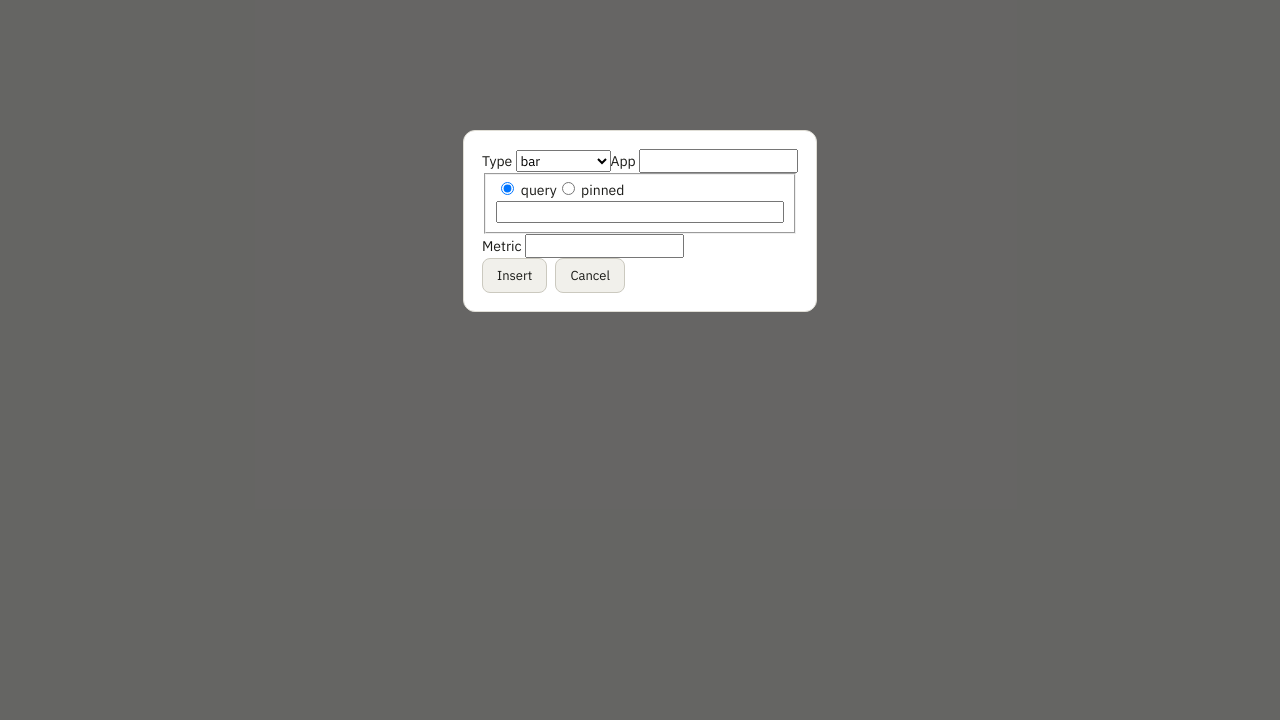
Test case: PanelDialog › shows validation errors and does not submit
The image size is (1280, 720).
Select "bar" in the dropdown labelled "Type": point(563, 161) [516, 150, 610, 172]
In the field labelled "App": point(718, 161) [639, 149, 798, 173], type "a"
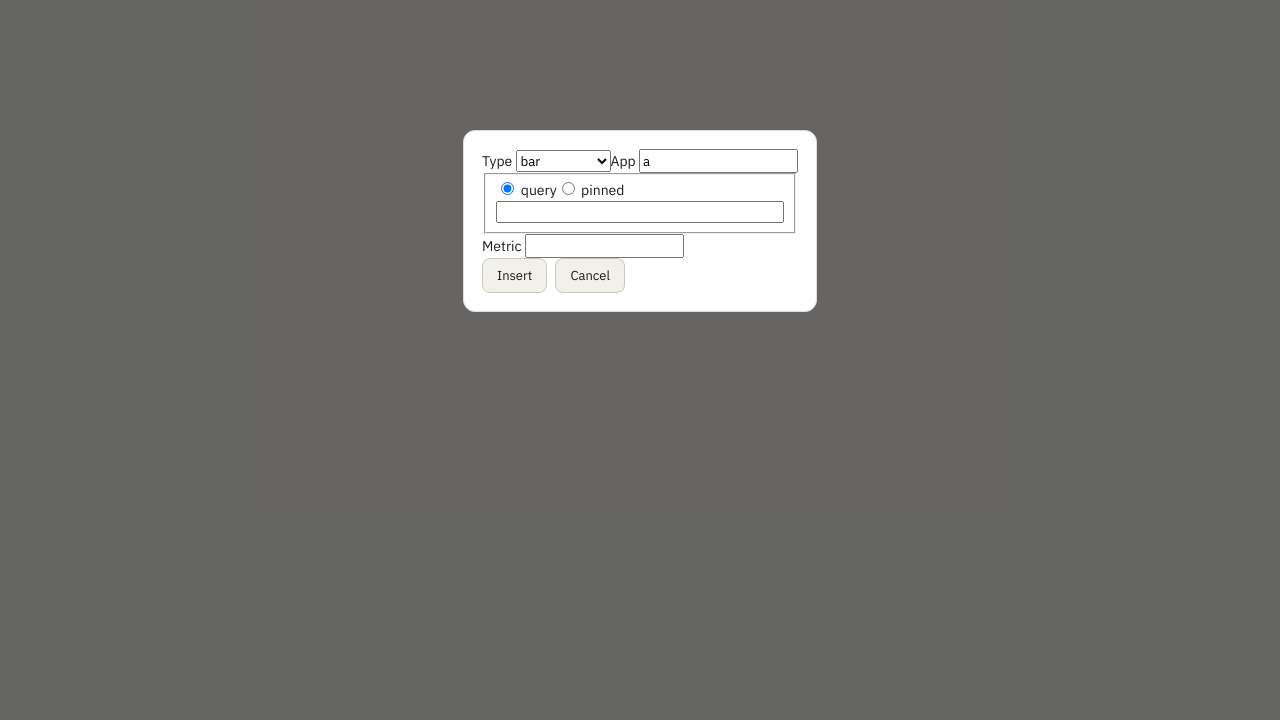
In the field named "Filter query": point(640, 212) [496, 202, 784, 224], type "(x = 1"
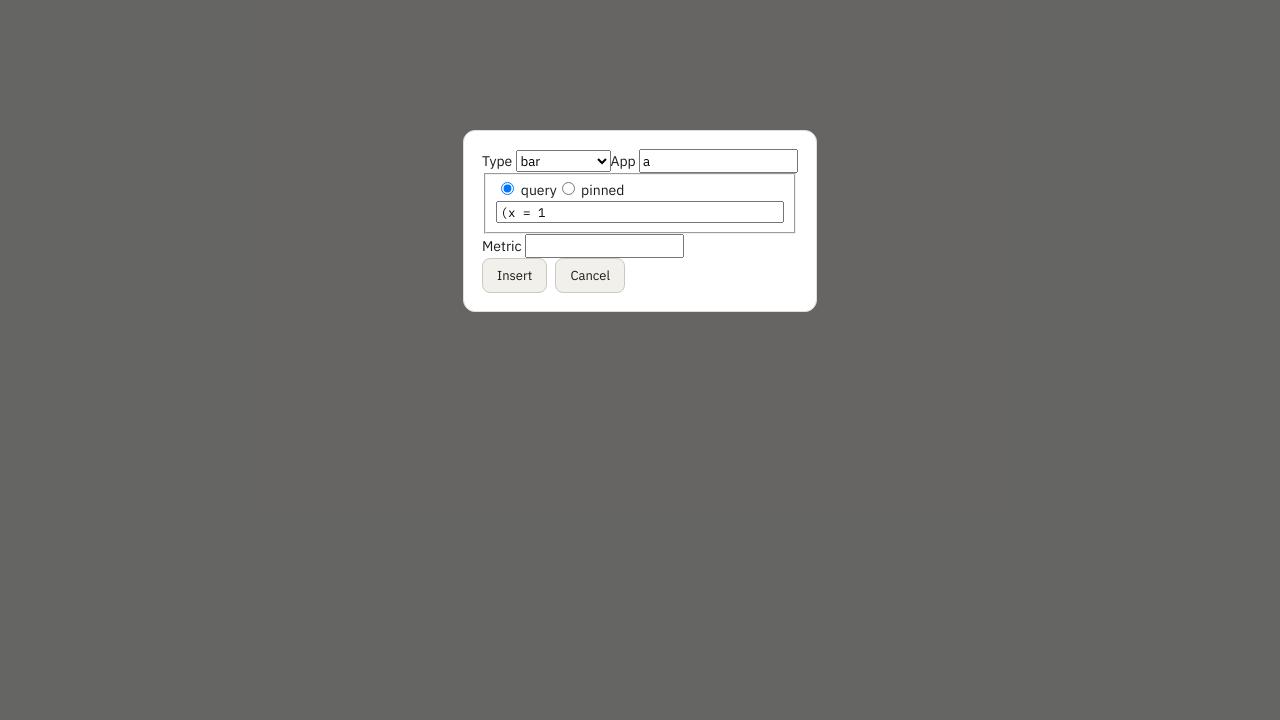
Click the button "Insert": point(515, 276) [482, 258, 548, 293]
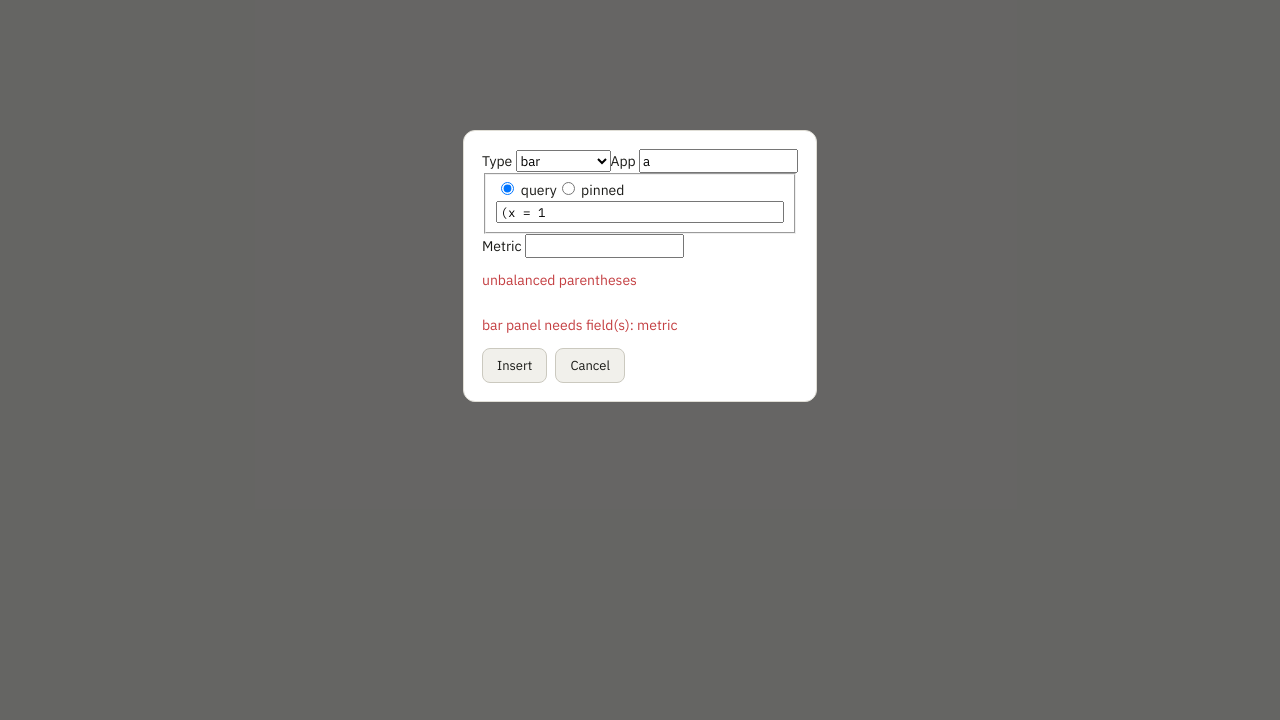
Check: the message "unbalanced parentheses" is shown, box [482, 271, 637, 289]
